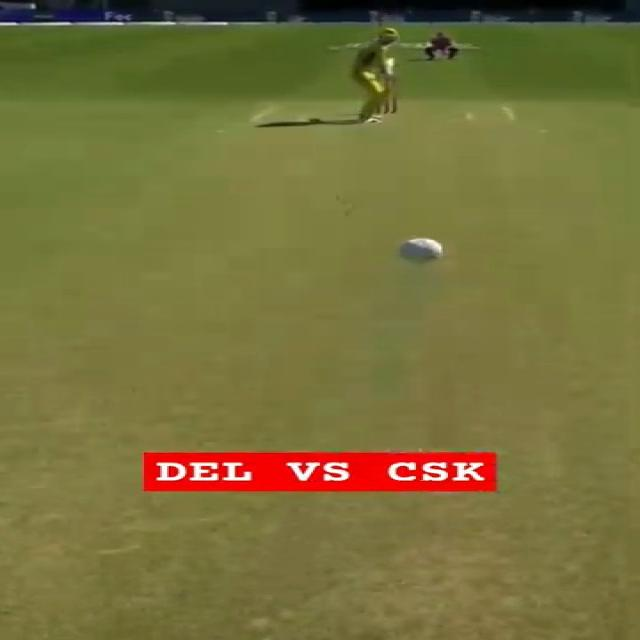ball: (386, 229, 455, 267)
